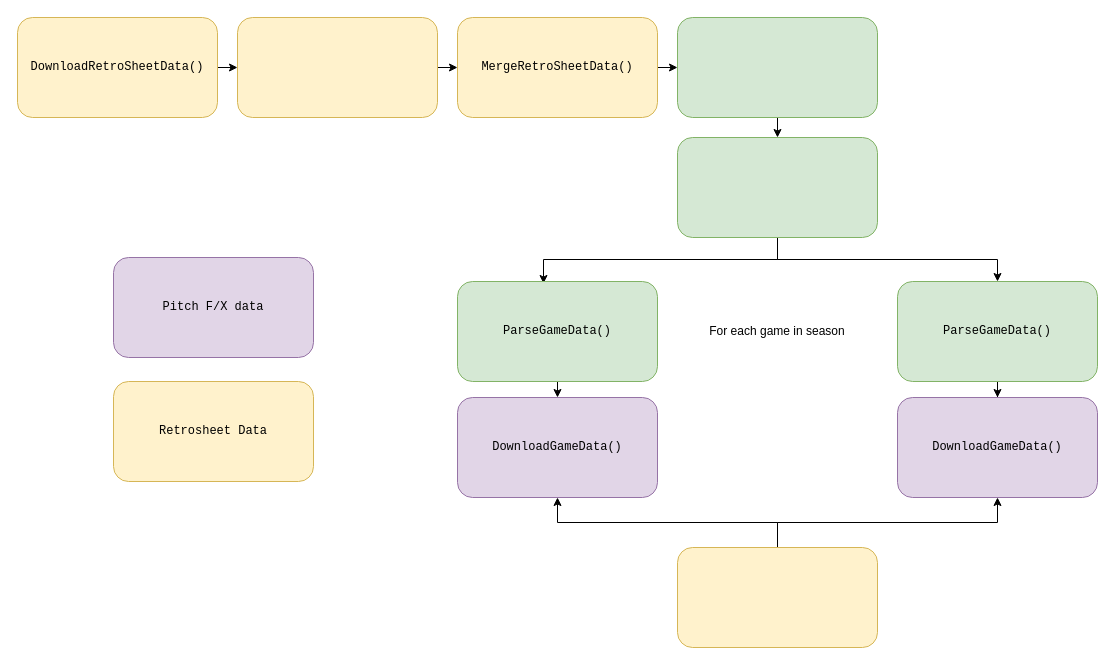
The diagram is 1115 pixels wide and 665 high, and some of its shapes have lost their labels. Each missing label, with the centre of its shape:
GenerateYearData(): the point at 777,187
GetSummaryStatistics(): the point at 777,67
ParseRetroSheetData(): the point at 337,67
ParseSchedules(): the point at 777,597
